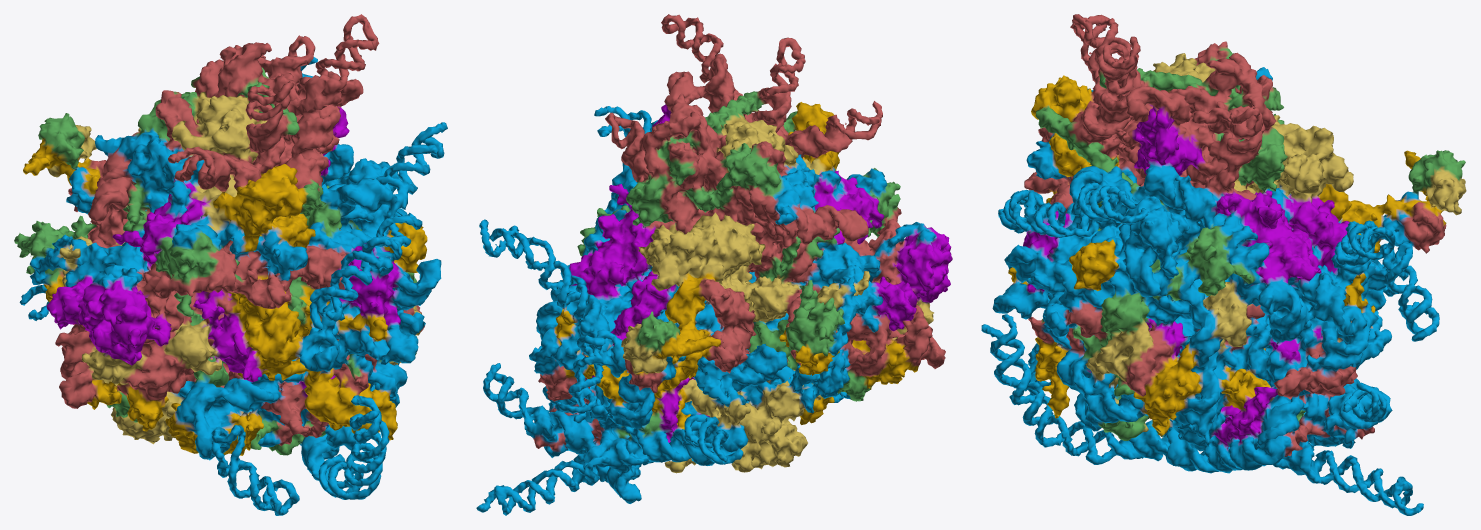
The model's file is organelle-ribosome-80s-bychain-nih-optimized.glb.
3 renders of one model, left to right at view 1: azimuth 30°, elevation 25°; view 2: azimuth 150°, elevation 25°; view 3: azimuth 270°, elevation 25°, orthographic. The views are drawn at different scales.
Visible parts, largest first — view 1: Surface #1; view 2: Surface #1; view 3: Surface #1.
Part boxes in pixels (left/top/right/bottom): Surface #1: left=14, top=14, right=447, bottom=515; Surface #1: left=476, top=14, right=952, bottom=515; Surface #1: left=981, top=14, right=1466, bottom=515.
Bounding box in the file's own units: 288 × 327 × 321.
